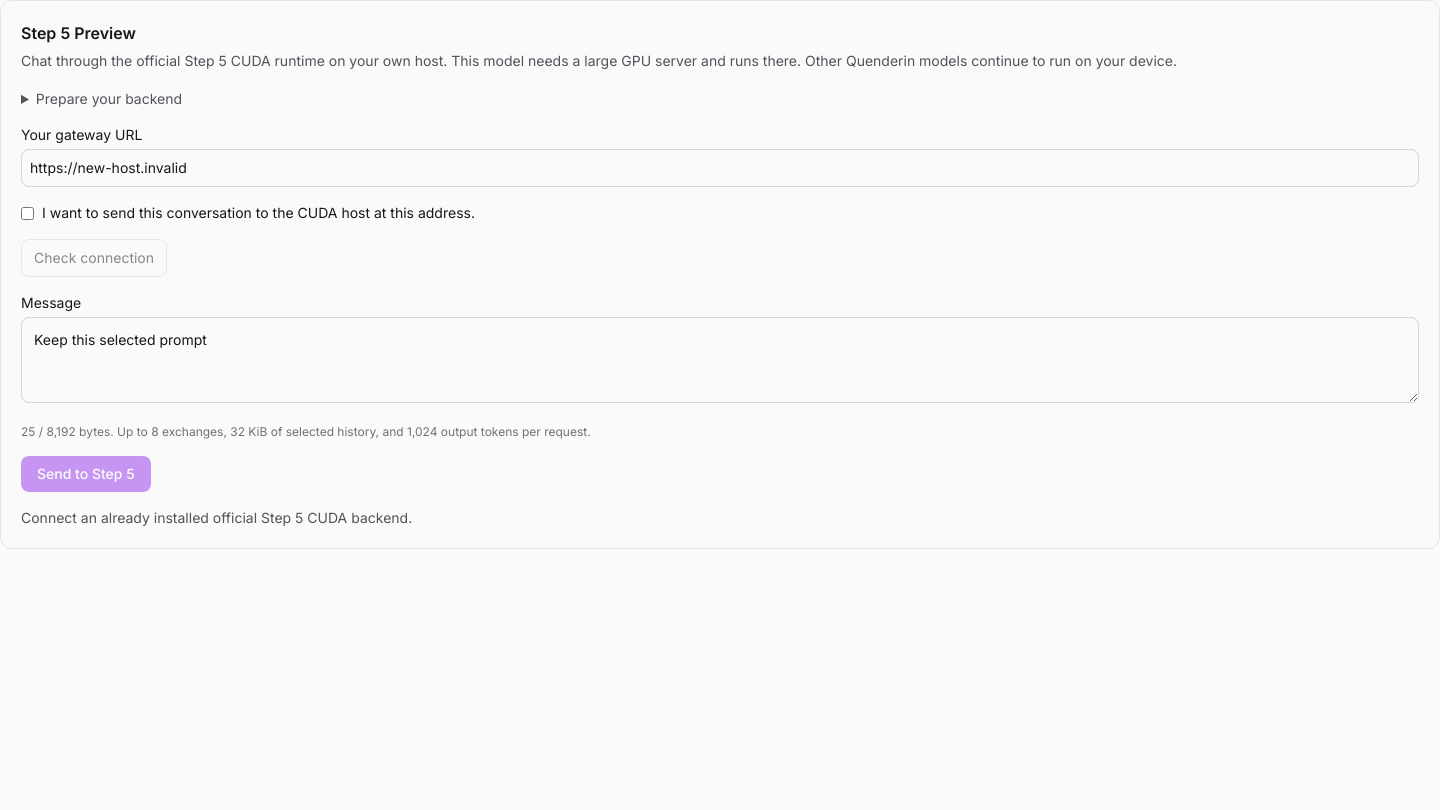
Step 5 explicit host consent and retry › cancels a blocked request and keeps the current message for retry
The image size is (1440, 810).
Replace the text in the text box labelled "Message" with "Keep after cancellation" at coordinates (720, 360), box x1=21 y1=317 x2=1419 y2=403
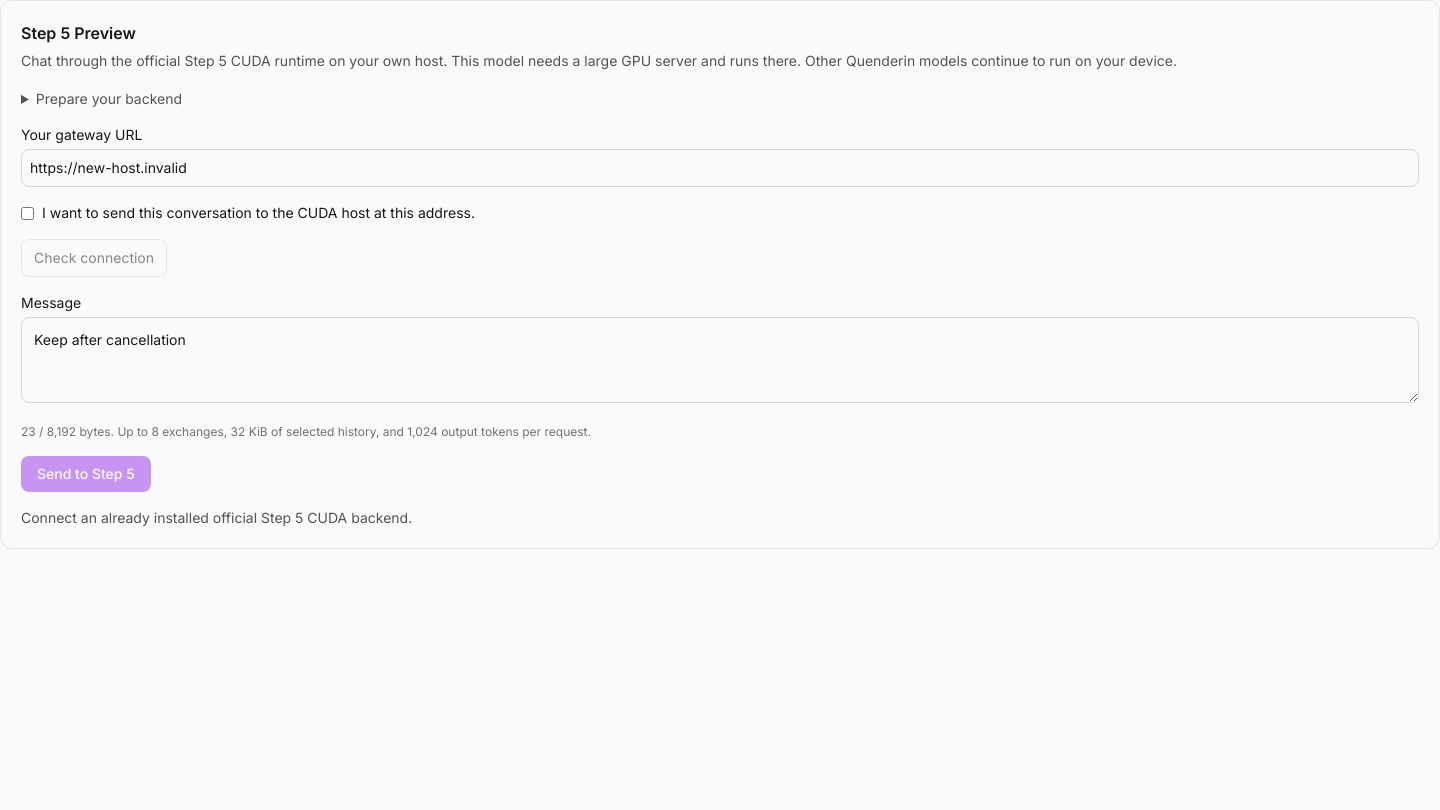
Click the checkbox.
click(28, 214)  # box x1=21 y1=207 x2=34 y2=220
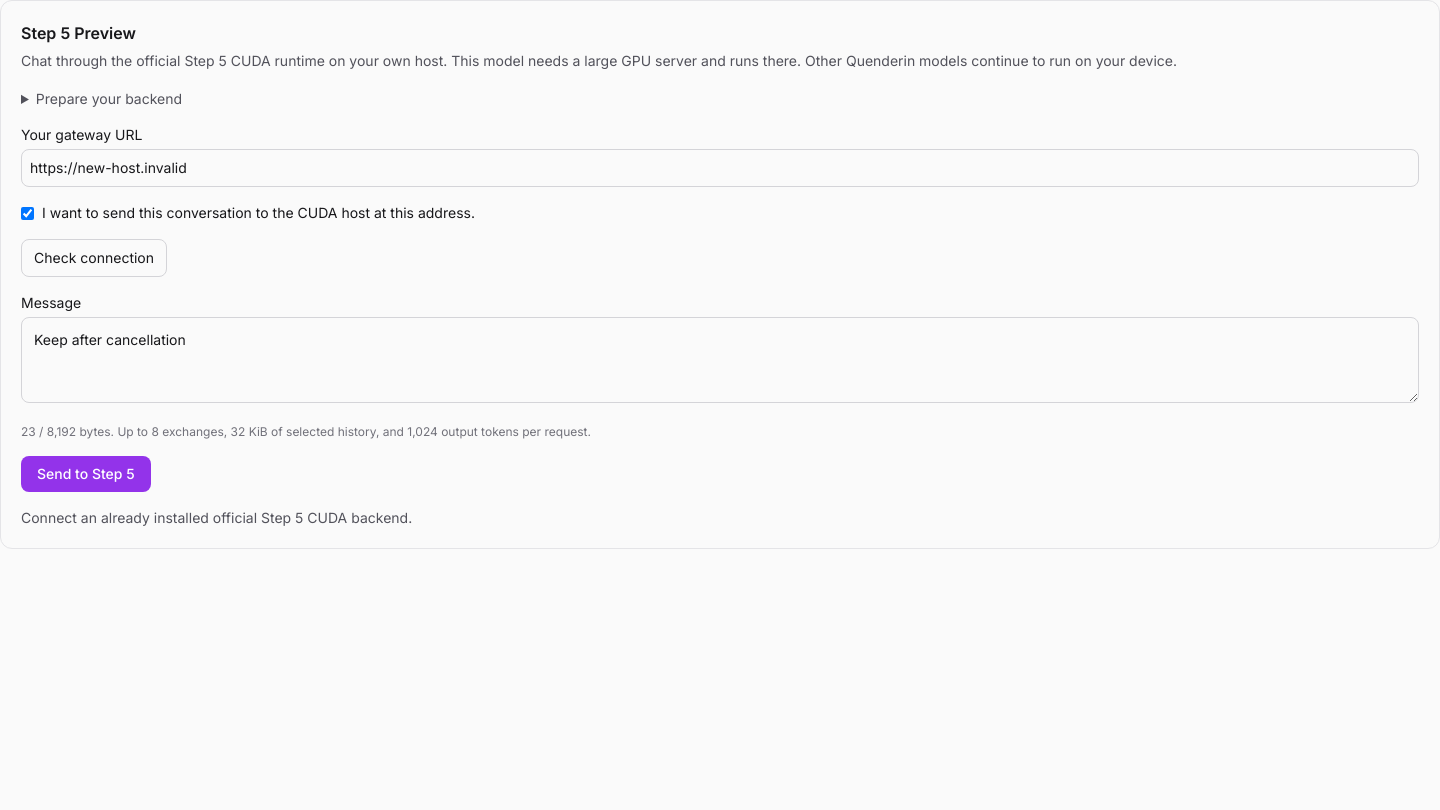
Click the button "Send to Step 5".
click(86, 474)  # box x1=21 y1=456 x2=151 y2=492
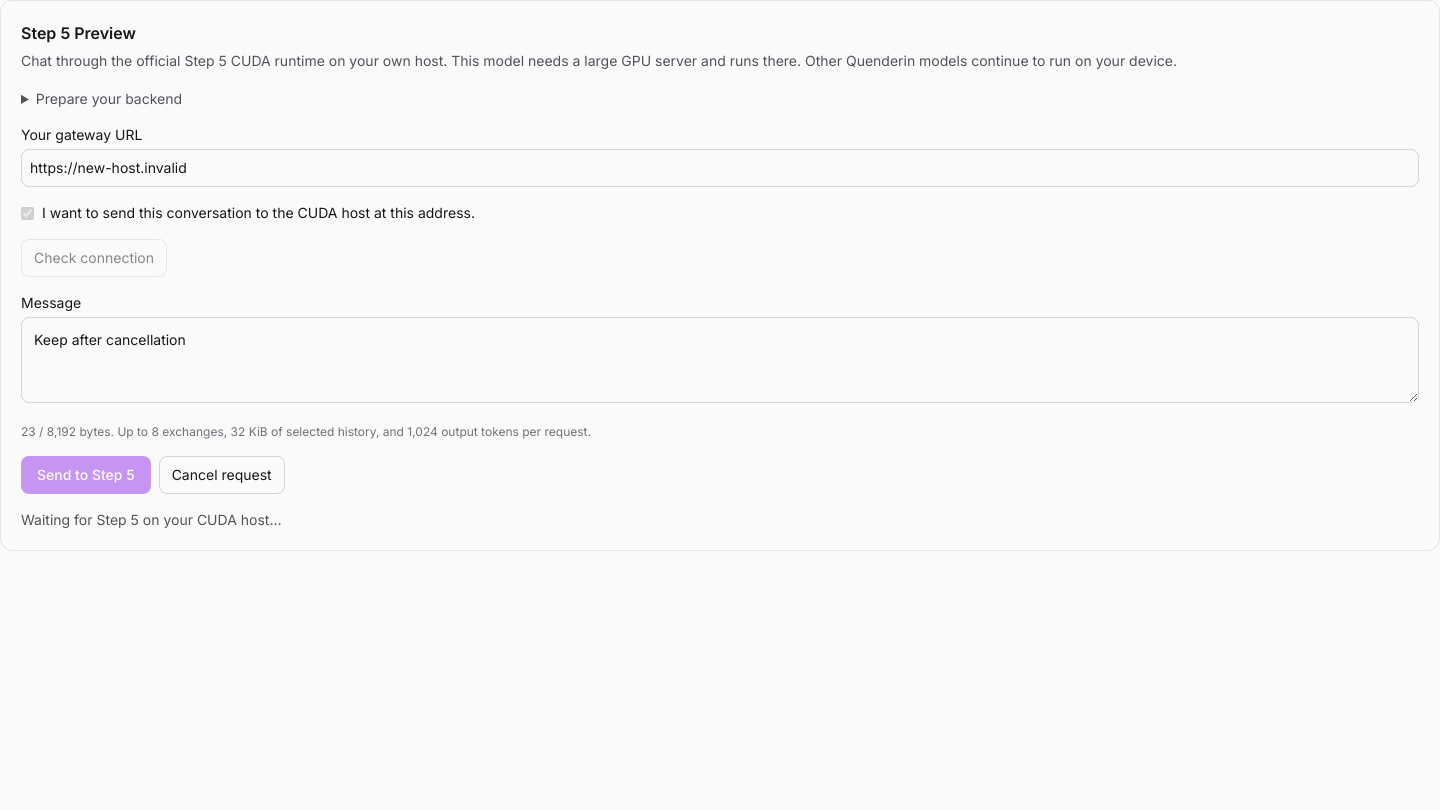
Click the button "Cancel request".
click(222, 475)  # box x1=159 y1=456 x2=285 y2=494
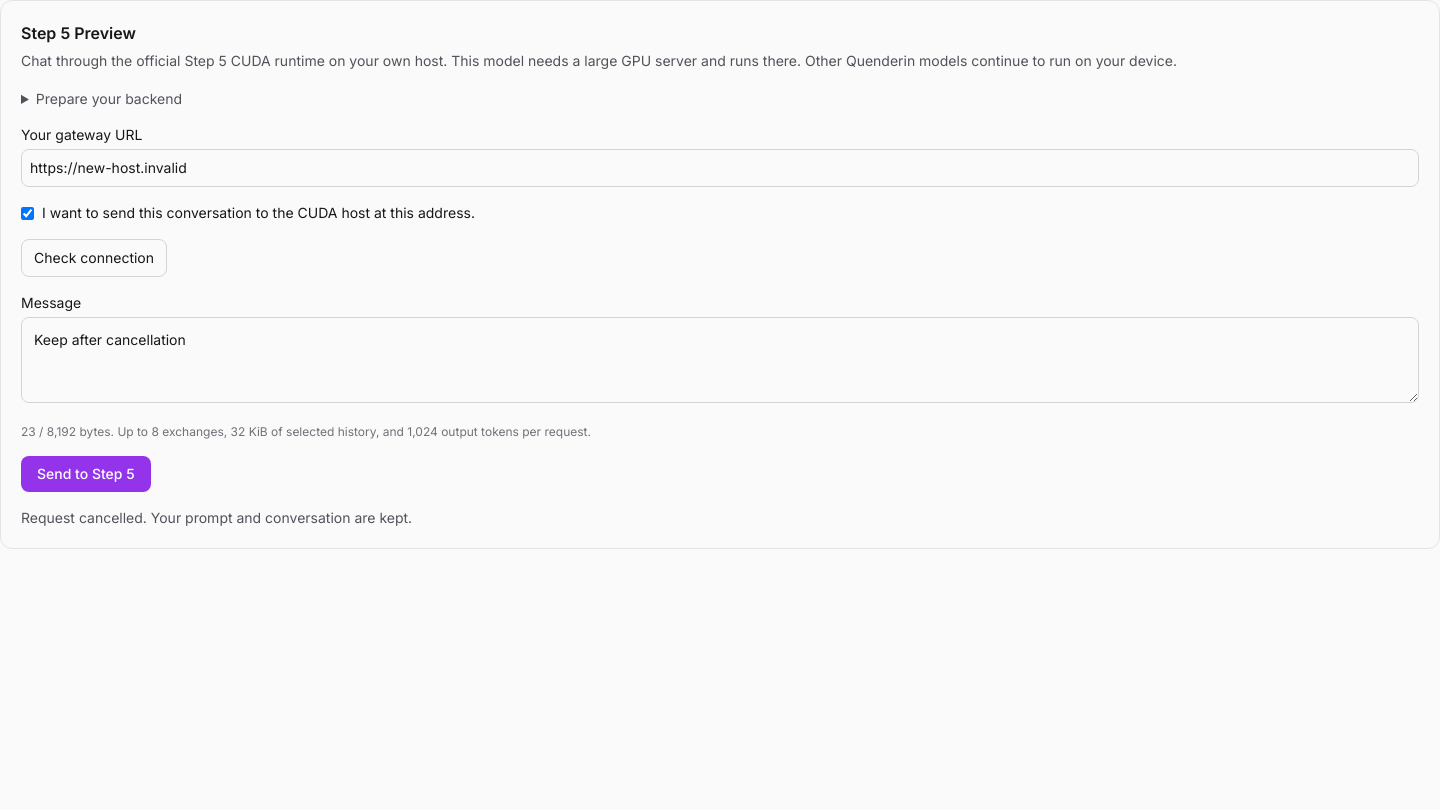
Now the text "Request cancelled. Your prompt and conversation are kept." is shown, box x1=21 y1=509 x2=412 y2=526
Now the button "Send to Step 5" is enabled, box x1=21 y1=456 x2=151 y2=492
